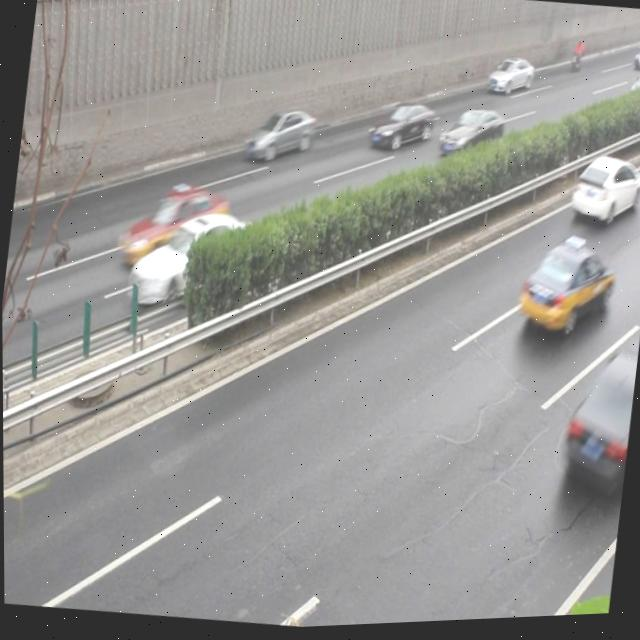car: (125, 204, 265, 317), (554, 346, 639, 501), (512, 235, 616, 342), (116, 181, 229, 275), (567, 155, 640, 230), (242, 106, 317, 168), (365, 99, 436, 161), (434, 108, 506, 169), (483, 56, 534, 106)
